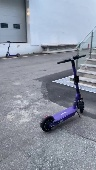beam: (39, 54, 88, 134), (5, 39, 21, 58)
